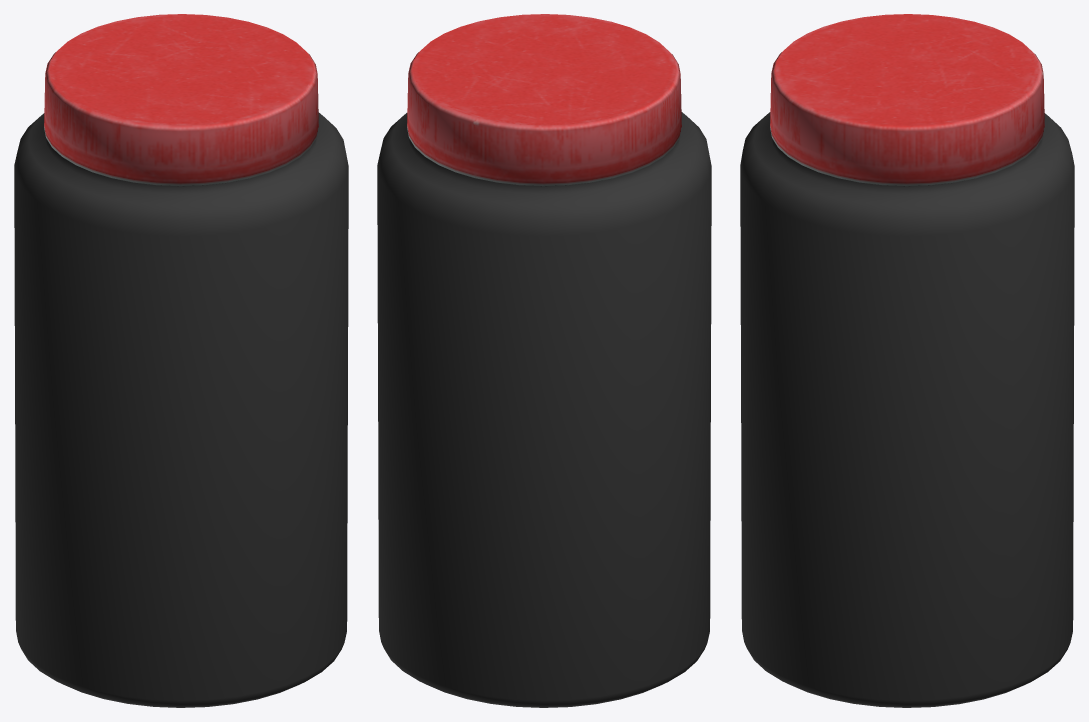
Rendered from M_PlasticContainer_02.FBX.
3 renders of one model, left to right at view 1: azimuth 30°, elevation 25°; view 2: azimuth 150°, elevation 25°; view 3: azimuth 270°, elevation 25°, orthographic.
Parts seen in each view (by area): view 1: M_PlasticContainer_02; view 2: M_PlasticContainer_02; view 3: M_PlasticContainer_02.
Part boxes in pixels (left/top/right/bottom): M_PlasticContainer_02: left=14, top=14, right=348, bottom=707; M_PlasticContainer_02: left=377, top=14, right=711, bottom=707; M_PlasticContainer_02: left=740, top=14, right=1074, bottom=707.
Bounding box in the file's own units: 14.61 × 14.61 × 27.62.
